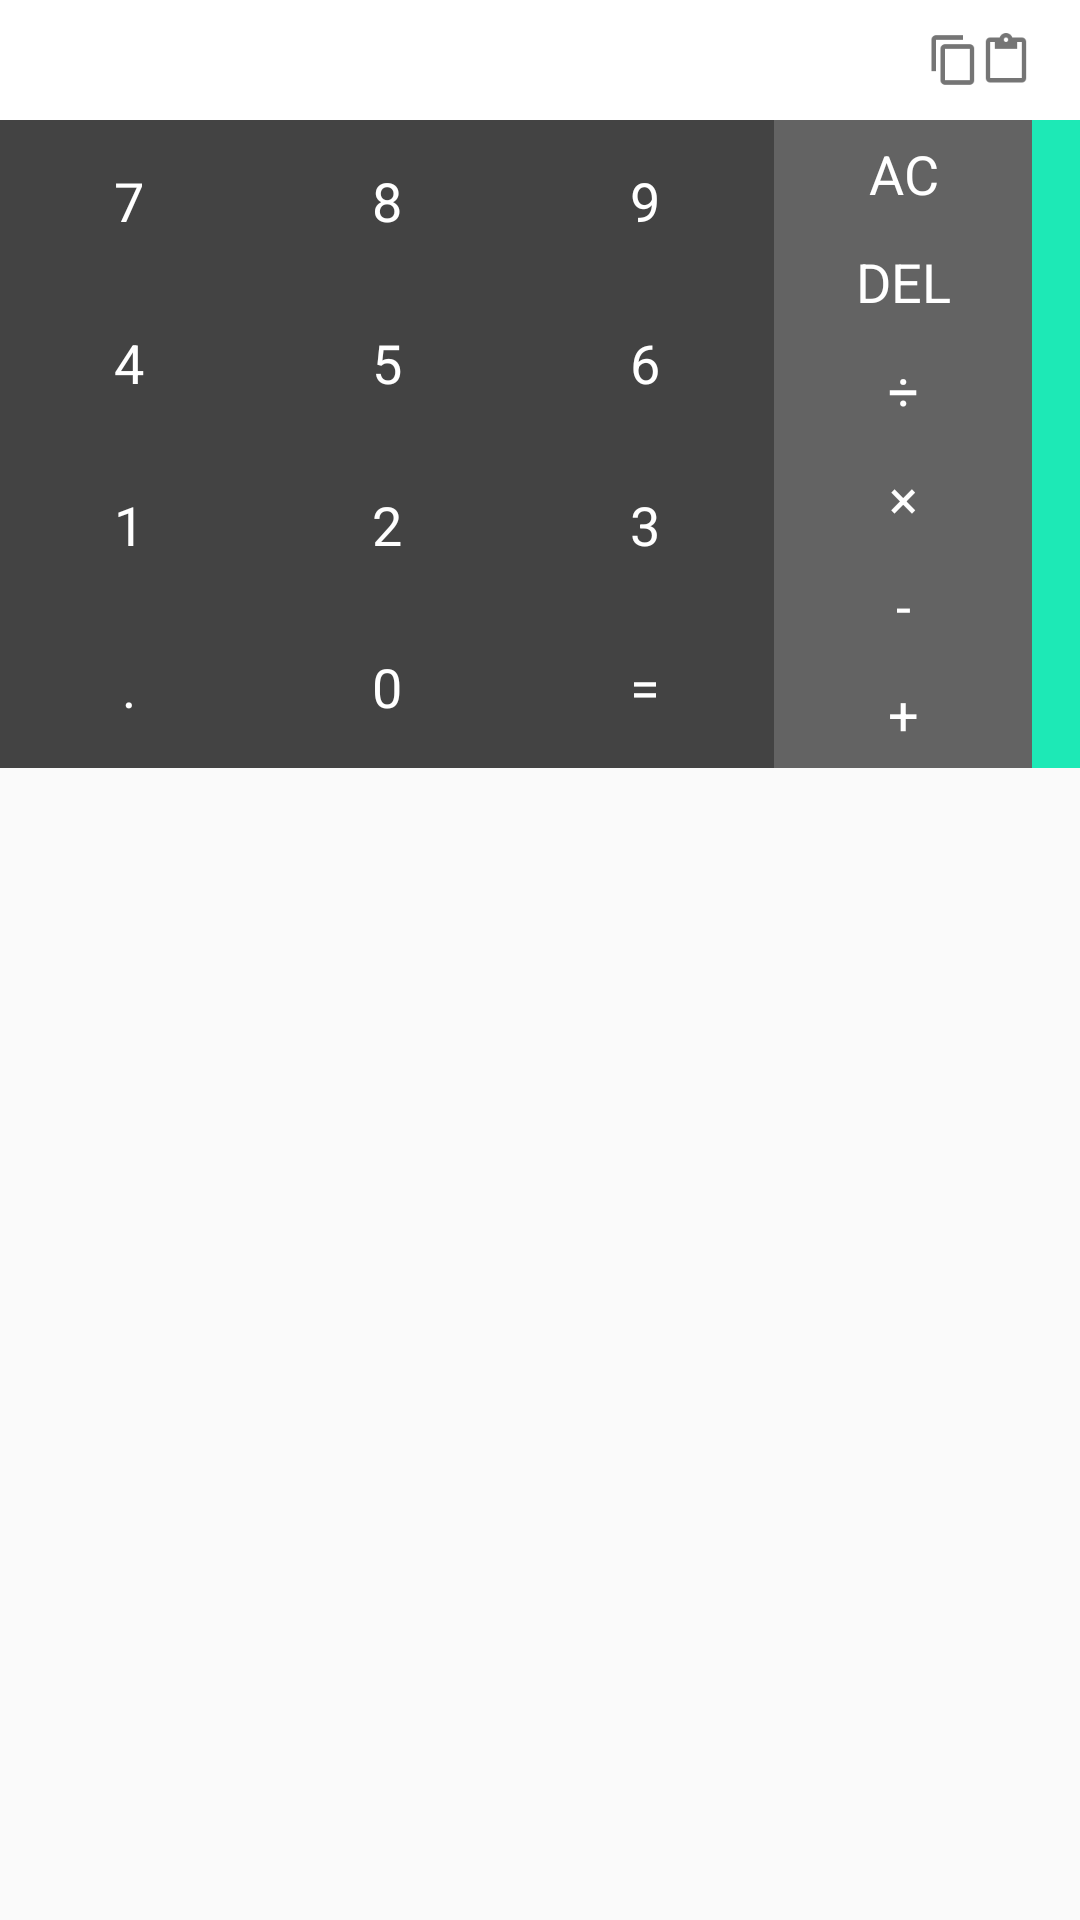

Named icons in this screenshot (1080*1920) and their centers, (x=x, y=y):
paste: (x=1006, y=58)
